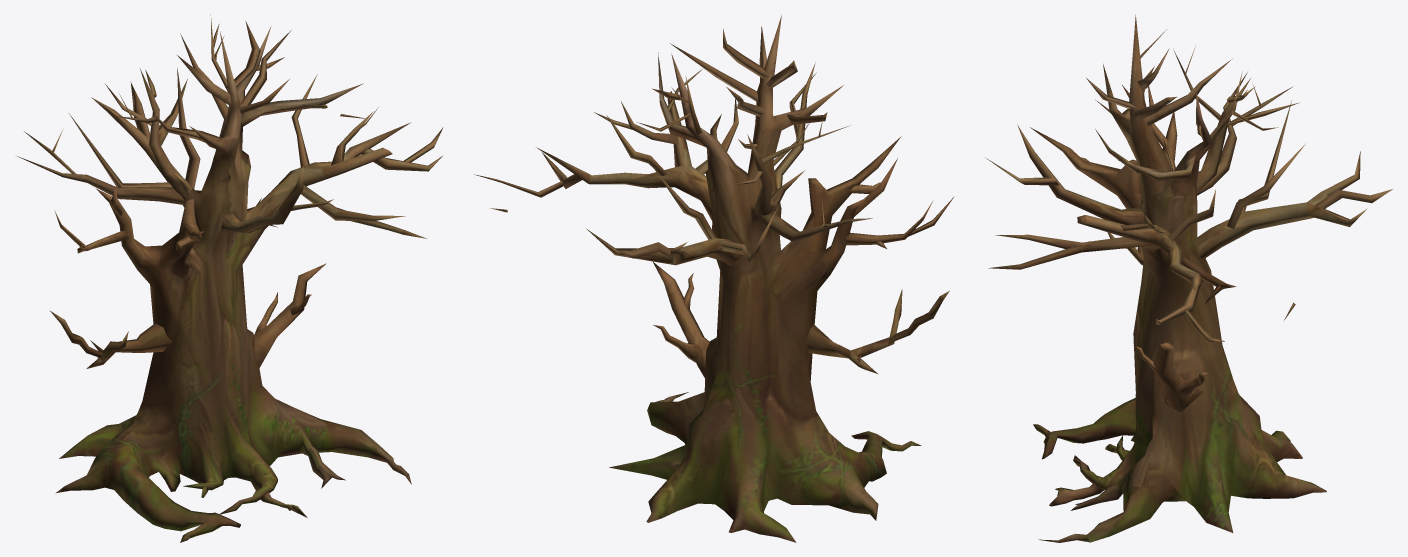
The model's file is scene_senlincaodi_tree07.FBX.
3 renders of one model, left to right at view 1: azimuth 30°, elevation 25°; view 2: azimuth 150°, elevation 25°; view 3: azimuth 270°, elevation 25°, orthographic.
Parts seen in each view (by area): view 1: scene_senlincaodi_tree07; view 2: scene_senlincaodi_tree07; view 3: scene_senlincaodi_tree07.
Boxes of the visible parts, x1,y1,x2,y2 form: scene_senlincaodi_tree07: [17, 14, 443, 542]; scene_senlincaodi_tree07: [475, 15, 954, 542]; scene_senlincaodi_tree07: [986, 15, 1392, 542].
Size of the model in its own units: 1839 by 1873 by 1479.
